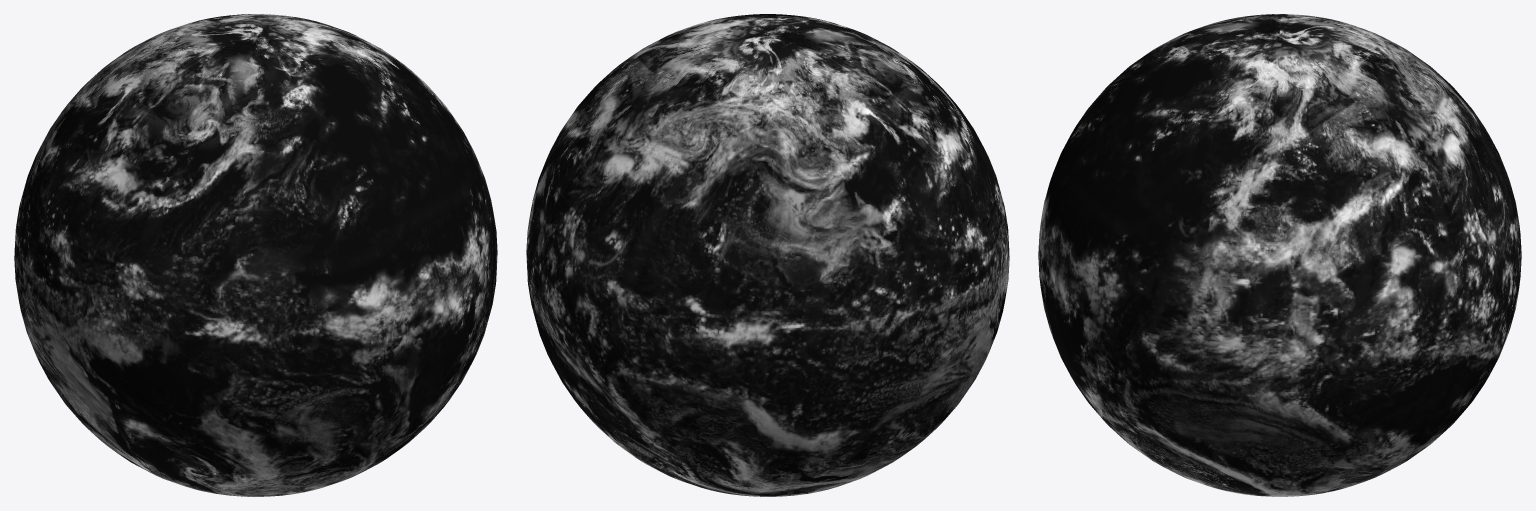
Rendered from earth.fbx.
The picture shows the model from 3 angles, left to right: view 1: azimuth 30°, elevation 25°; view 2: azimuth 150°, elevation 25°; view 3: azimuth 270°, elevation 25°; orthographic projection.
Parts seen in each view (by area): view 1: Sphere002; view 2: Sphere002; view 3: Sphere002.
Part boxes in pixels (box(x1,y1,x2,y2)): Sphere002: box(14, 14, 497, 496); Sphere002: box(526, 14, 1009, 496); Sphere002: box(1038, 14, 1521, 496).
Bounding box in the file's own units: 702 × 702 × 702.
